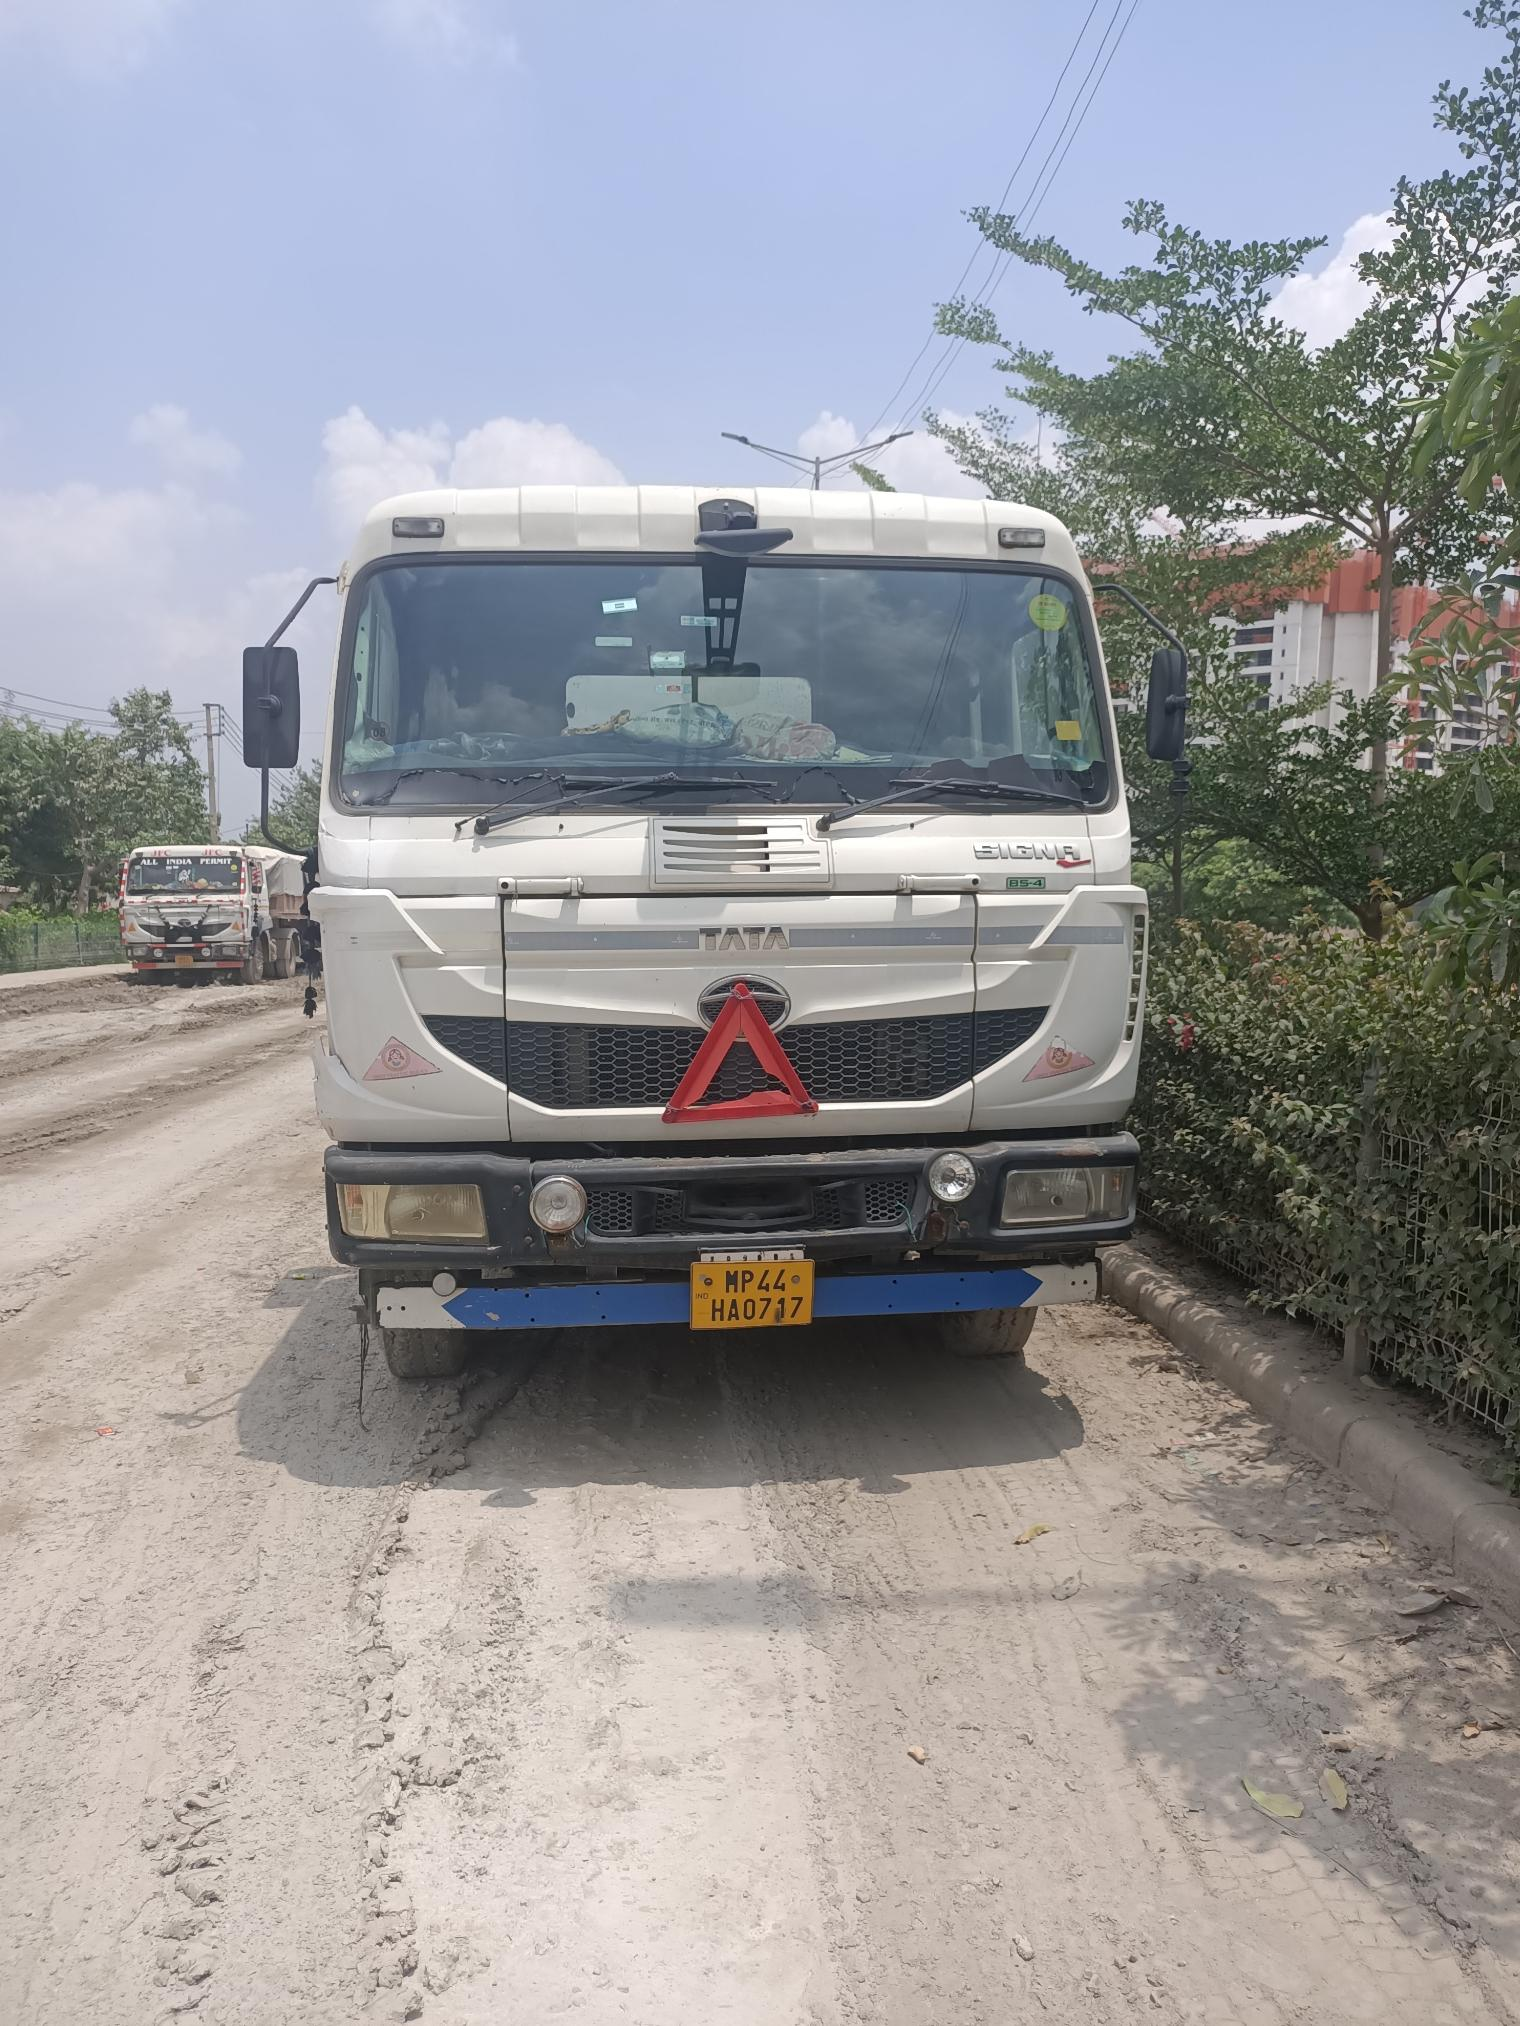FastTag: (648, 647, 695, 674)
not a FastTag: (1020, 583, 1071, 637), (1052, 712, 1087, 749), (677, 608, 725, 629), (592, 634, 635, 653), (599, 597, 642, 615)
